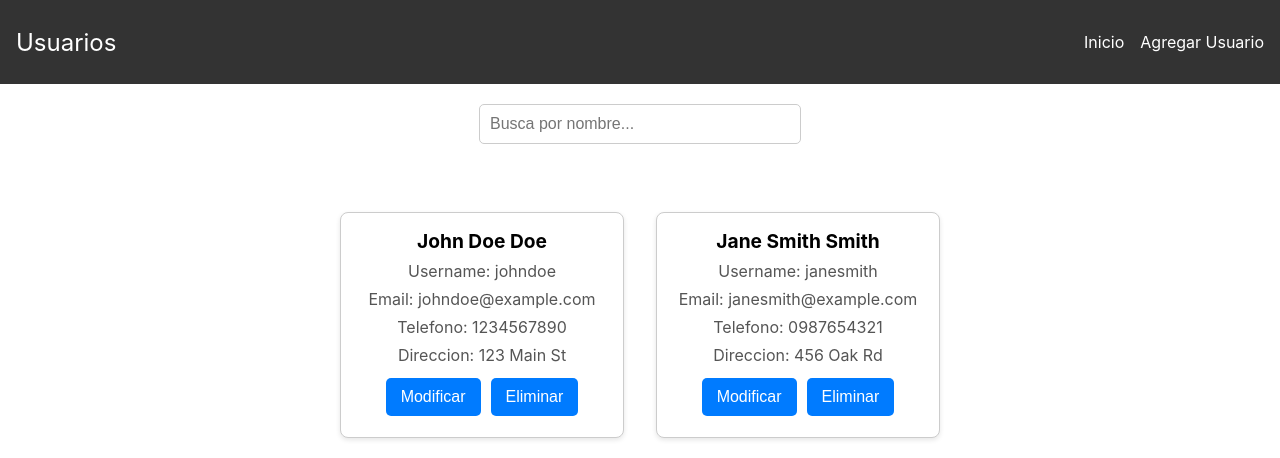
it: HomePage › filters users based on the search term
Expected: the heading "John Doe Doe" is shown, [417,229,547,253]
Expected: the heading "Jane Smith Smith" is shown, [716,229,880,253]
// Type a search term and verify the filtered users are displayed
Step 1. Type "John" into the field with placeholder "Busca por nombre..." → point(640, 124), box [479,104,801,144]
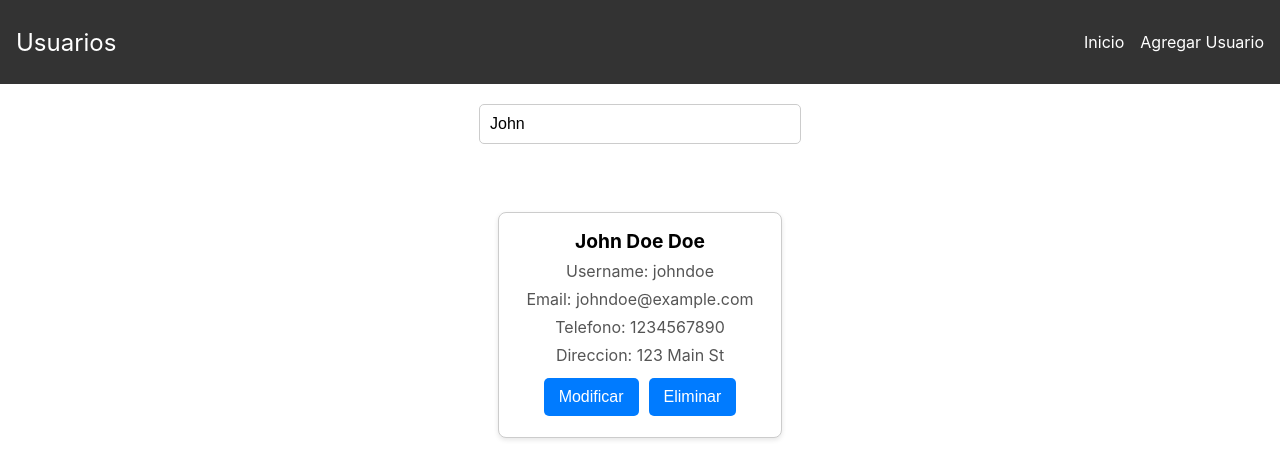
Expected: the heading "John Doe Doe" is shown, [575,229,705,253]
Now the heading "Jane Smith Smith" is gone
